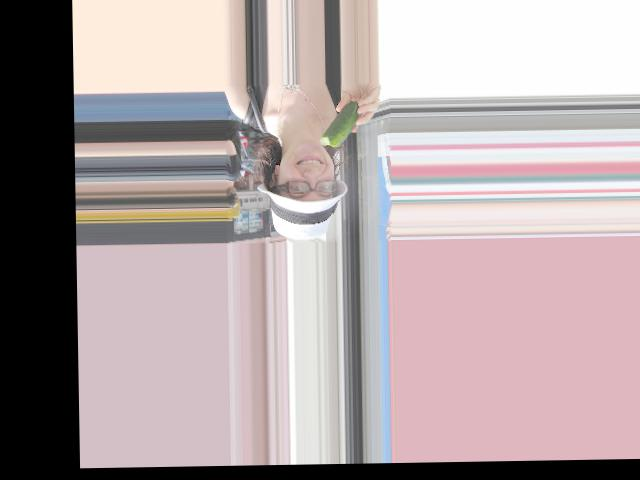cucumber: (319, 100, 360, 147)
